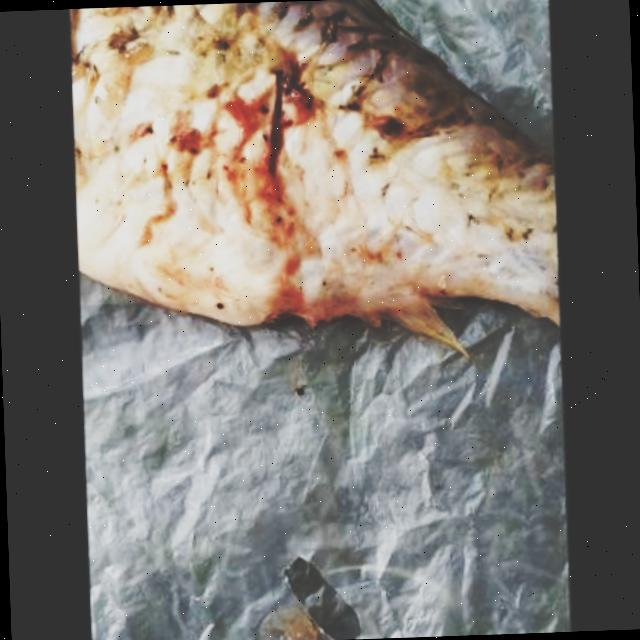Edwardsiella Ictaluri -Bacterial Red Disease-: (71, 0, 557, 352), (71, 0, 557, 350)
